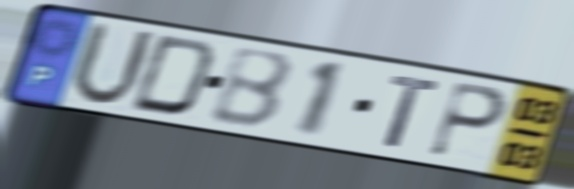1: (292, 58, 350, 138)
B: (207, 46, 296, 133)
D: (126, 32, 220, 119)
P: (425, 79, 511, 162)
T: (382, 72, 444, 152)
U: (66, 18, 159, 110)
